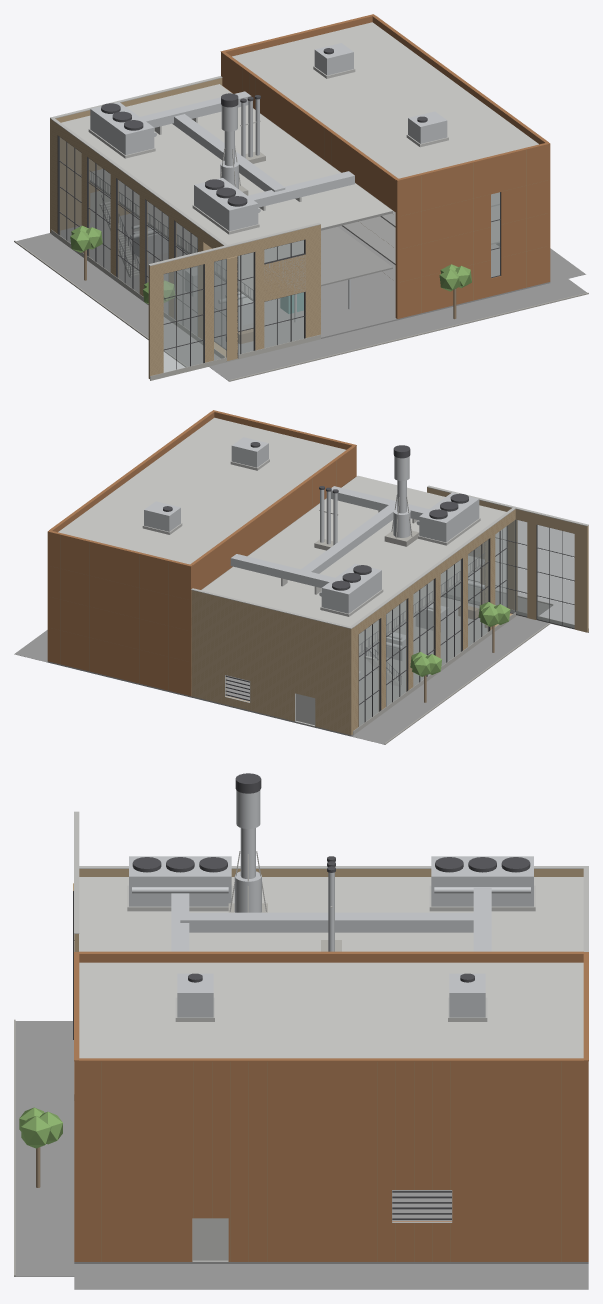
Rendered from clay-energy-centre-clay-v002.glb.
3 views of the same model, one above another, from view 1: azimuth 30°, elevation 25°; view 2: azimuth 150°, elevation 25°; view 3: azimuth 270°, elevation 25° (orthographic). The views are drawn at different scales.
Visible parts, largest first — view 1: CLAY_MEMBRANE, CLAY_CORTEN, CLAY_FOUNDATION, CLAY_WALL, CLAY_GLASS, CLAY_STEEL, CLAY_FLOOR, CLAY_TRIM, CLAY_PALE, CLAY_HARDWARE, CLAY_CONCRETE, CLAY_JOINT (+2 smaller); view 2: CLAY_MEMBRANE, CLAY_CORTEN, CLAY_WALL, CLAY_GLASS, CLAY_STEEL, CLAY_FOUNDATION, CLAY_JOINT, CLAY_TRIM, CLAY_PALE, CLAY_HARDWARE, CLAY_FLOOR, CLAY_CONCRETE (+2 smaller); view 3: CLAY_CORTEN, CLAY_MEMBRANE, CLAY_FOUNDATION, CLAY_STEEL, CLAY_PALE, CLAY_HARDWARE, CLAY_WALL, CLAY_JOINT, CLAY_PLANTING.
Boxes of the visible parts, left/top/right/bottom form: CLAY_MEMBRANE: left=61, top=22, right=538, bottom=244; CLAY_CORTEN: left=220, top=14, right=550, bottom=318; CLAY_FOUNDATION: left=16, top=213, right=586, bottom=381; CLAY_WALL: left=50, top=78, right=320, bottom=378; CLAY_GLASS: left=59, top=137, right=499, bottom=372; CLAY_STEEL: left=90, top=43, right=447, bottom=330; CLAY_FLOOR: left=81, top=108, right=499, bottom=301; CLAY_TRIM: left=57, top=135, right=500, bottom=369; CLAY_PALE: left=50, top=66, right=499, bottom=277; CLAY_HARDWARE: left=90, top=48, right=427, bottom=341; CLAY_CONCRETE: left=51, top=151, right=320, bottom=380; CLAY_JOINT: left=52, top=68, right=547, bottom=374; CLAY_MEMBRANE: left=58, top=417, right=506, bottom=626; CLAY_CORTEN: left=47, top=410, right=356, bottom=695; CLAY_WALL: left=191, top=487, right=588, bottom=735; CLAY_GLASS: left=359, top=519, right=574, bottom=726; CLAY_STEEL: left=144, top=437, right=484, bottom=692; CLAY_FOUNDATION: left=14, top=583, right=552, bottom=744; CLAY_JOINT: left=51, top=461, right=514, bottom=733; CLAY_TRIM: left=358, top=519, right=574, bottom=726; CLAY_PALE: left=142, top=459, right=588, bottom=726; CLAY_HARDWARE: left=163, top=442, right=484, bottom=700; CLAY_FLOOR: left=201, top=498, right=484, bottom=655; CLAY_CONCRETE: left=314, top=530, right=588, bottom=735; CLAY_CORTEN: left=74, top=951, right=588, bottom=1261; CLAY_MEMBRANE: left=79, top=877, right=583, bottom=1058; CLAY_FOUNDATION: left=14, top=1021, right=588, bottom=1289; CLAY_STEEL: left=129, top=790, right=533, bottom=1017; CLAY_PALE: left=74, top=811, right=588, bottom=1261; CLAY_HARDWARE: left=132, top=773, right=530, bottom=1219; CLAY_WALL: left=73, top=869, right=583, bottom=951; CLAY_JOINT: left=101, top=1062, right=561, bottom=1261; CLAY_PLANTING: left=19, top=1107, right=62, bottom=1148.
Size of the model in its own units: 48.5 by 21.9 by 38.03.
